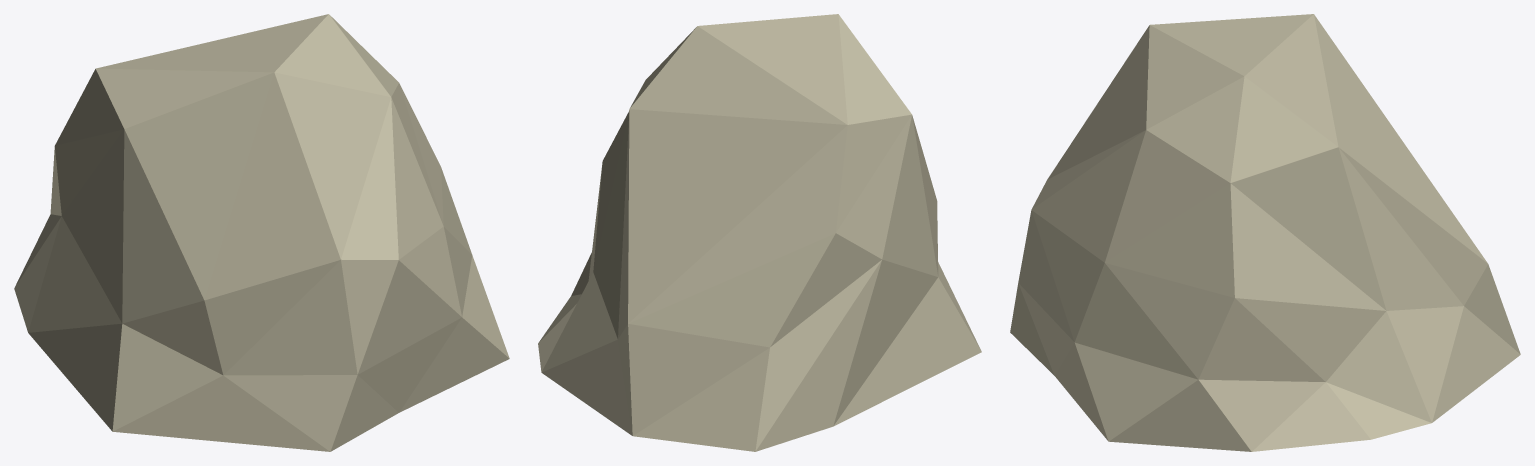
The model's file is RockR3.fbx.
The picture shows the model from 3 angles, left to right: view 1: azimuth 30°, elevation 25°; view 2: azimuth 150°, elevation 25°; view 3: azimuth 270°, elevation 25°; orthographic projection. The views are drawn at different scales.
Parts seen in each view (by area): view 1: RockR3; view 2: RockR3; view 3: RockR3.
Boxes of the visible parts, left/top/right/bottom form: RockR3: left=14, top=14, right=509, bottom=451; RockR3: left=538, top=14, right=981, bottom=451; RockR3: left=1010, top=14, right=1520, bottom=451.
Bounding box in the file's own units: 233 × 182 × 268.
